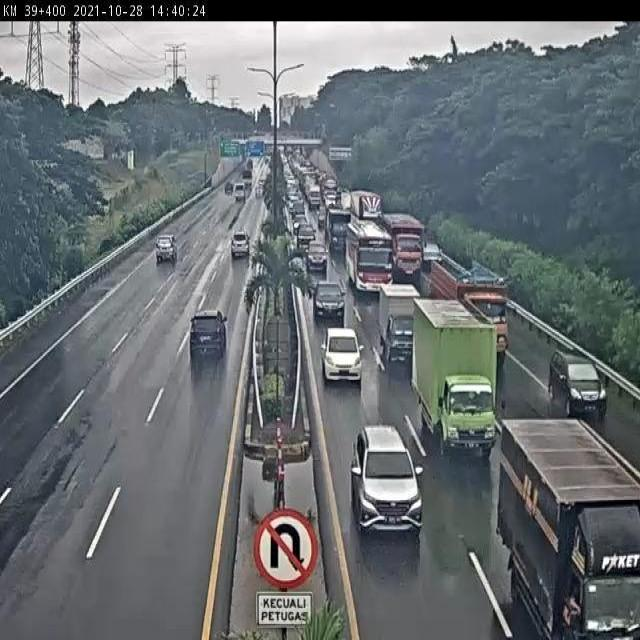bus-l-: (347, 220, 393, 295)
car: (349, 421, 423, 536), (549, 348, 607, 417), (187, 306, 226, 358), (322, 326, 361, 378), (313, 283, 345, 317), (156, 235, 181, 262), (230, 230, 253, 258), (306, 242, 328, 270)
truck-l-: (429, 256, 509, 356), (388, 218, 425, 274)
truck-m-: (501, 420, 640, 640), (413, 302, 498, 454)
truck-s-: (377, 284, 419, 357)
